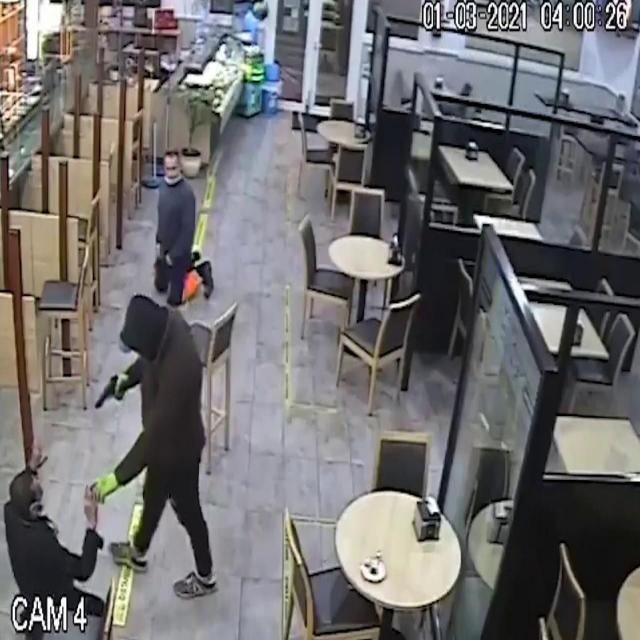weapon: (82, 364, 138, 418)
